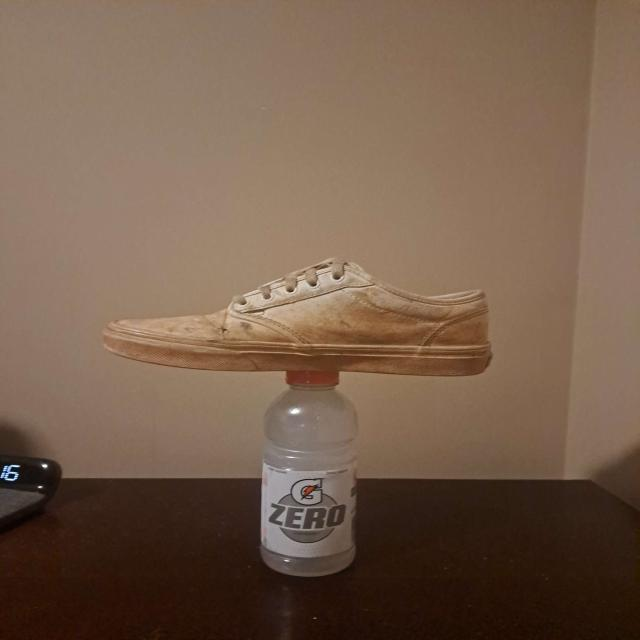shoe: (98, 254, 494, 378)
